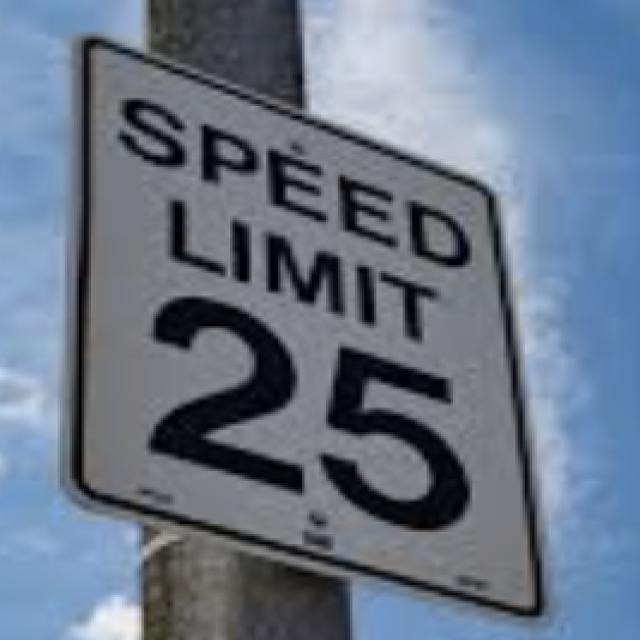speedLimit25: (79, 36, 542, 612)
